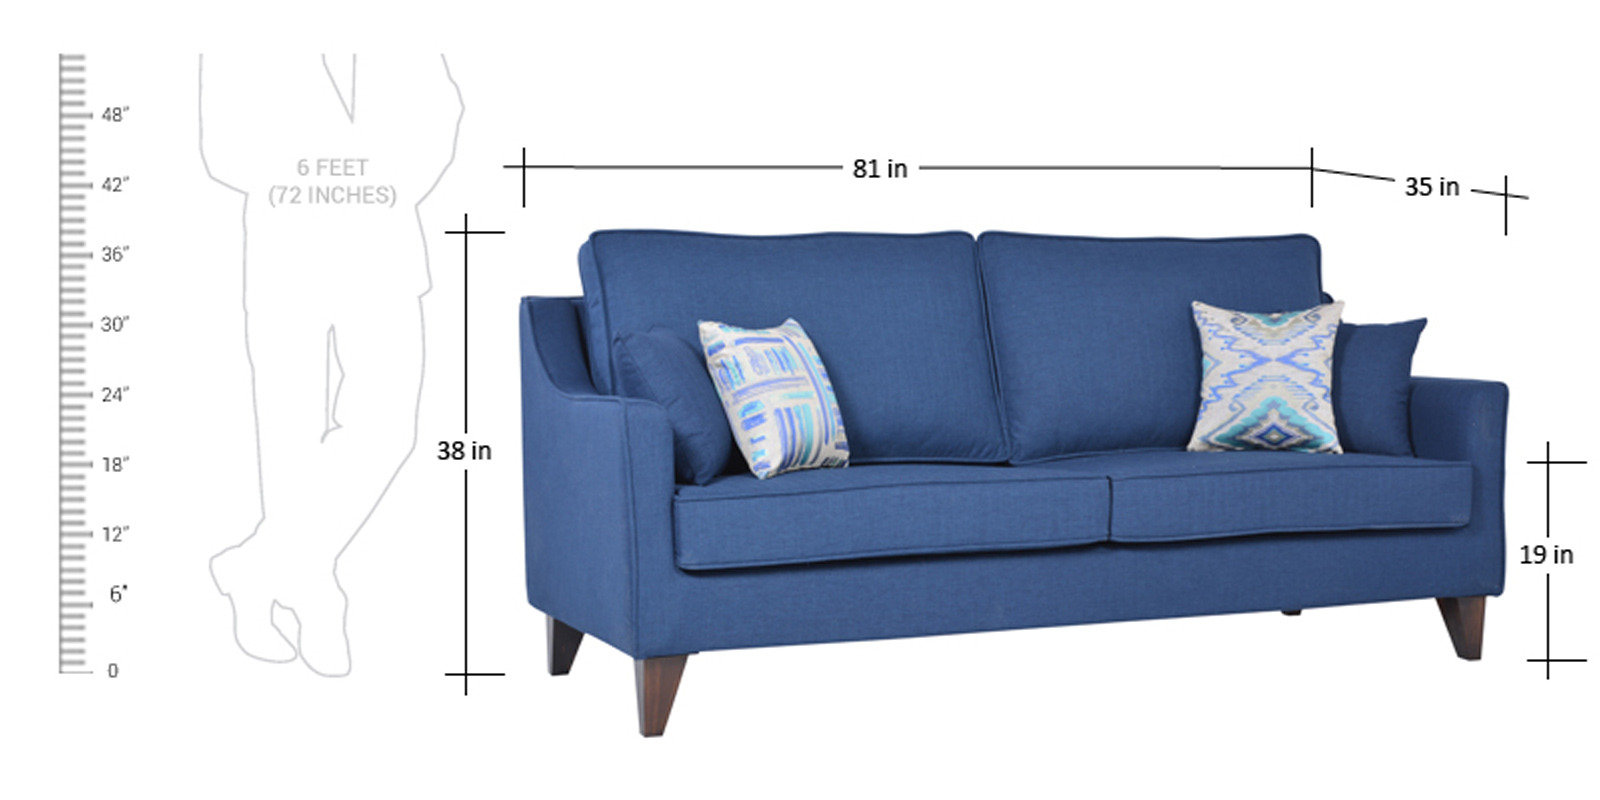Ithaca Impulse Three Seater Sofa with Throw Cushions in Teal Blue Colour by Urba: (505, 197, 1531, 735)
